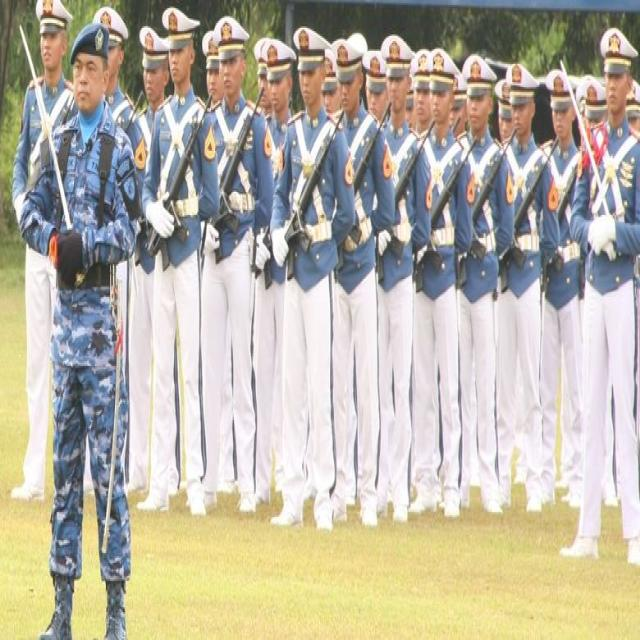peserta: (32, 23, 136, 640), (271, 0, 339, 542), (586, 31, 638, 624), (159, 4, 213, 567), (208, 16, 264, 552), (118, 2, 174, 536), (418, 39, 464, 583), (334, 31, 380, 569), (27, 3, 71, 508), (497, 57, 545, 519), (379, 14, 414, 580), (542, 57, 583, 522), (460, 45, 500, 520), (265, 27, 293, 172), (366, 33, 390, 173), (202, 26, 229, 136), (320, 40, 344, 143), (413, 39, 430, 171), (494, 67, 515, 169), (255, 32, 272, 146), (144, 338, 157, 338)
